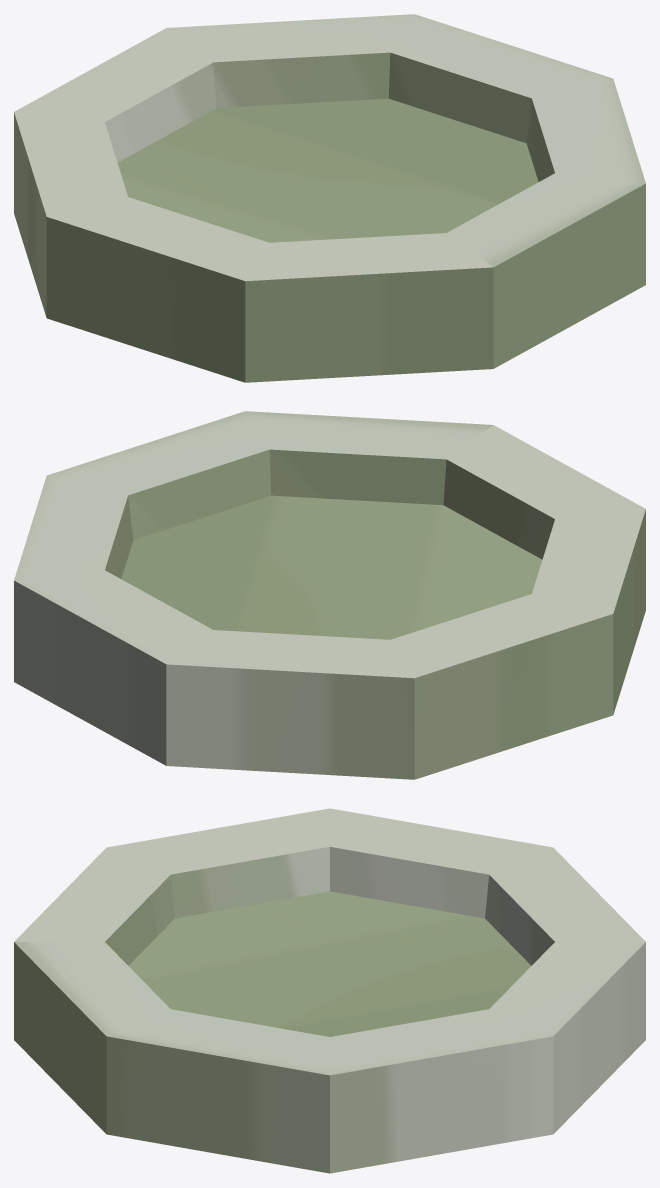
The model's file is Coin_2.fbx.
3 views of the same model, one above another, from view 1: azimuth 30°, elevation 25°; view 2: azimuth 150°, elevation 25°; view 3: azimuth 270°, elevation 25° (orthographic). The views are drawn at different scales.
Parts seen in each view (by area): view 1: Coin_2; view 2: Coin_2; view 3: Coin_2.
Part boxes in pixels (left/top/right/bottom): Coin_2: left=14, top=14, right=645, bottom=382; Coin_2: left=14, top=411, right=645, bottom=779; Coin_2: left=14, top=808, right=645, bottom=1173.
Size of the model in its own units: 180 by 30.77 by 180.
